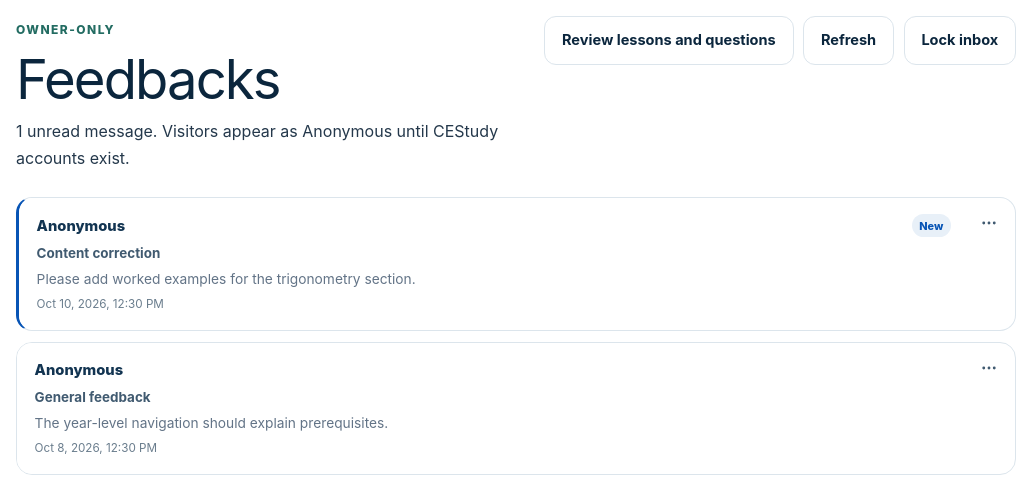
Scenario: owner-only feedback inbox › deletes feedback through the owner-authenticated function and removes it from the inbox
Click the 2nd button named "More feedback actions": click(989, 368) [973,352,1005,384]
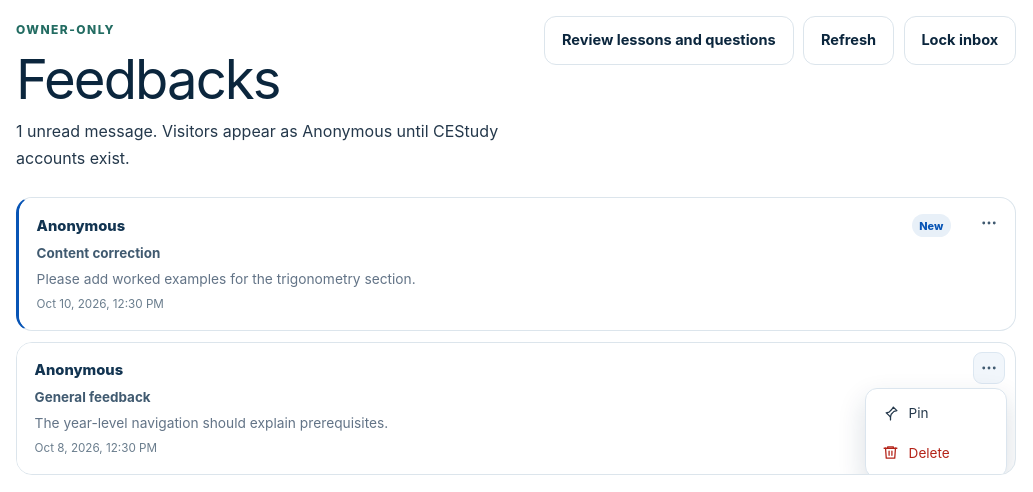
Click the menu item "Delete": click(936, 453) [871,433,1001,473]
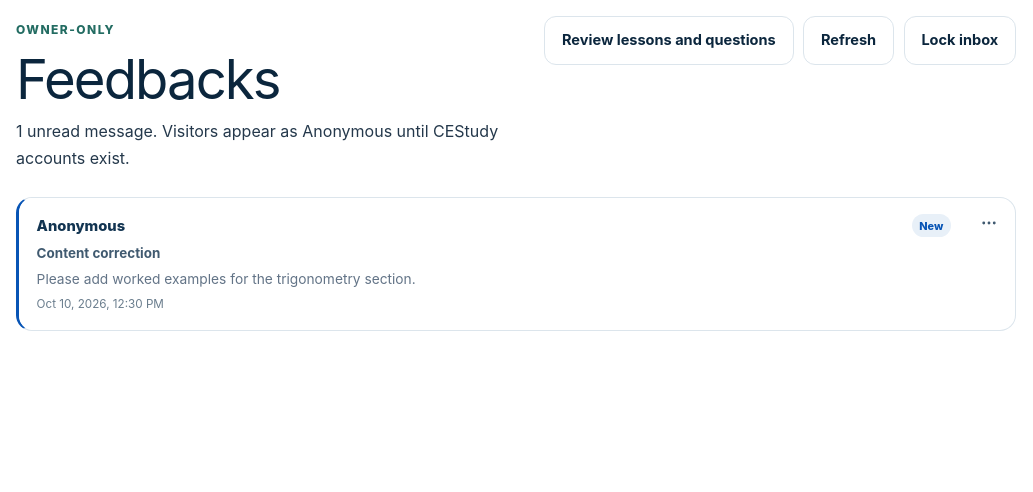
Expected: the button "The year-level navigation should explain prerequisites." is gone
